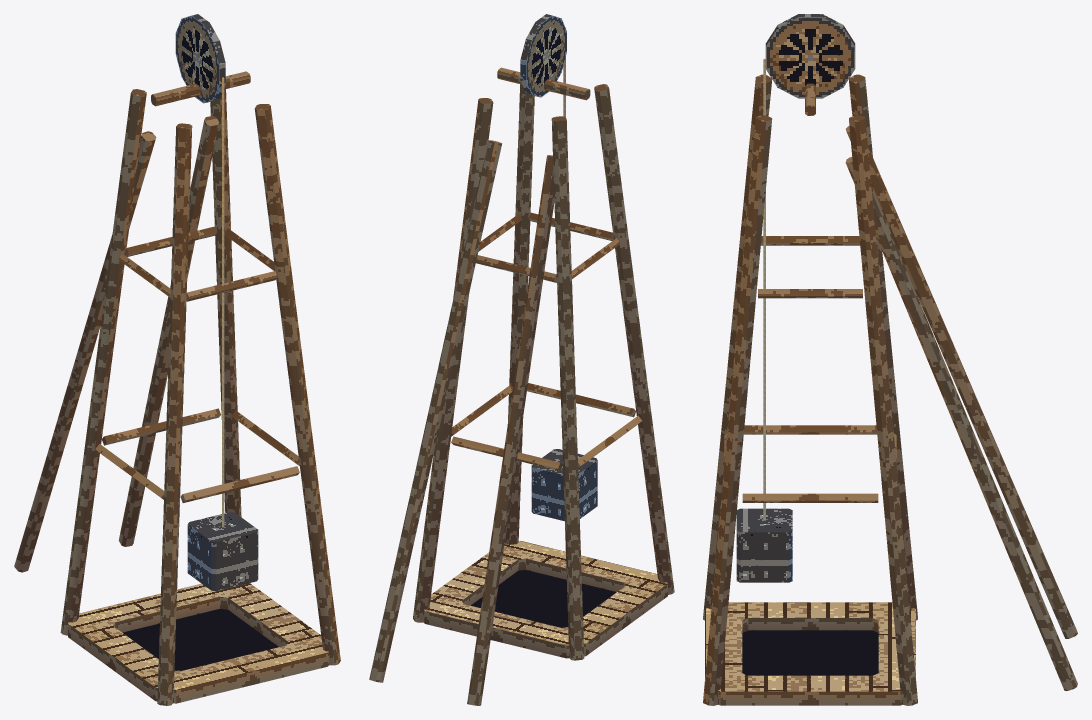
File: wmine.headframe__tall.glb
3 views of the same model, side by side, from view 1: azimuth 30°, elevation 25°; view 2: azimuth 150°, elevation 25°; view 3: azimuth 270°, elevation 25° (orthographic). The views are drawn at different scales.
Visible parts, largest first — view 1: kit_legs, kit_collar, kit_backs, kit_girts, kit_card_shaft, kit_cage, kit_sheave, kit_rope, kit_sheave_axle; view 2: kit_legs, kit_backs, kit_collar, kit_girts, kit_card_shaft, kit_cage, kit_sheave, kit_sheave_axle; view 3: kit_legs, kit_backs, kit_collar, kit_card_shaft, kit_sheave, kit_girts, kit_cage, kit_rope.
Boxes of the visible parts, bbox=[...] form: kit_legs: bbox=[60, 89, 340, 705]; kit_collar: bbox=[68, 583, 328, 703]; kit_backs: bbox=[14, 116, 219, 572]; kit_girts: bbox=[95, 226, 299, 502]; kit_card_shaft: bbox=[123, 609, 278, 670]; kit_cage: bbox=[187, 512, 258, 591]; kit_sheave: bbox=[175, 14, 225, 103]; kit_rope: bbox=[222, 77, 224, 527]; kit_sheave_axle: bbox=[151, 71, 250, 106]; kit_legs: bbox=[413, 84, 674, 660]; kit_backs: bbox=[369, 140, 554, 705]; kit_collar: bbox=[424, 541, 667, 658]; kit_girts: bbox=[451, 212, 642, 470]; kit_card_shaft: bbox=[471, 570, 616, 627]; kit_cage: bbox=[531, 449, 597, 521]; kit_sheave: bbox=[520, 14, 566, 97]; kit_sheave_axle: bbox=[497, 67, 590, 100]; kit_legs: bbox=[703, 74, 917, 705]; kit_backs: bbox=[845, 126, 1077, 690]; kit_collar: bbox=[705, 602, 915, 705]; kit_card_shaft: bbox=[742, 630, 878, 675]; kit_sheave: bbox=[765, 14, 855, 98]; kit_girts: bbox=[724, 236, 896, 502]; kit_cage: bbox=[736, 508, 792, 582]; kit_rope: bbox=[763, 58, 765, 520].
Bounding box in the file's own units: 3.46 × 11.51 × 6.04.
Materials: 6 (6 with a texture image).
